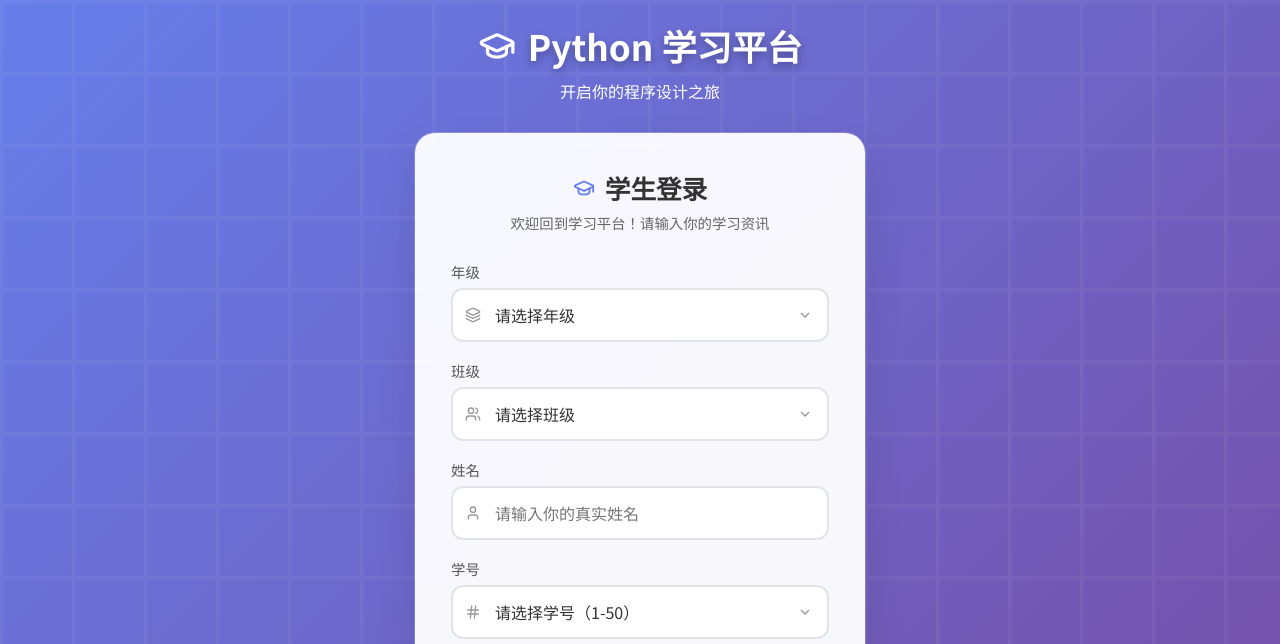
Test: Login.jsx › shows field error when student not found
The width and height of the screenshot is (1280, 644).
Step 1. Select "七年级" in the dropdown below "年级" → (640, 315), box 451,288 -> 829,342
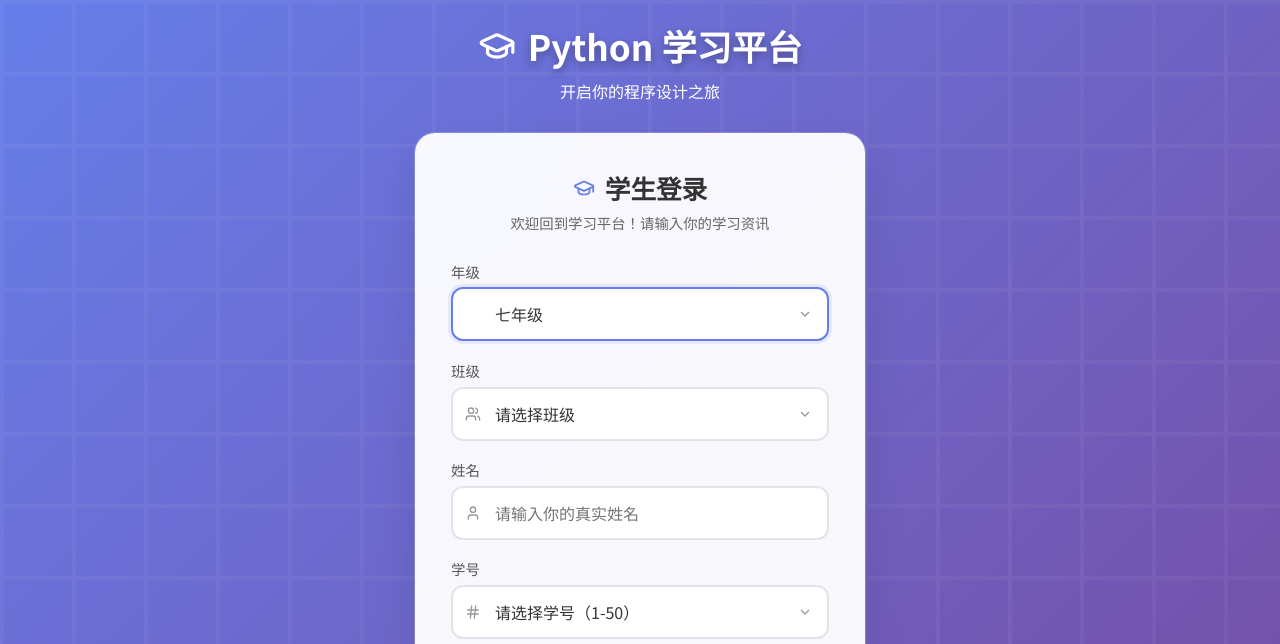
Step 2. Select "1班" in the dropdown below "班级" → (640, 414), box 451,387 -> 829,441
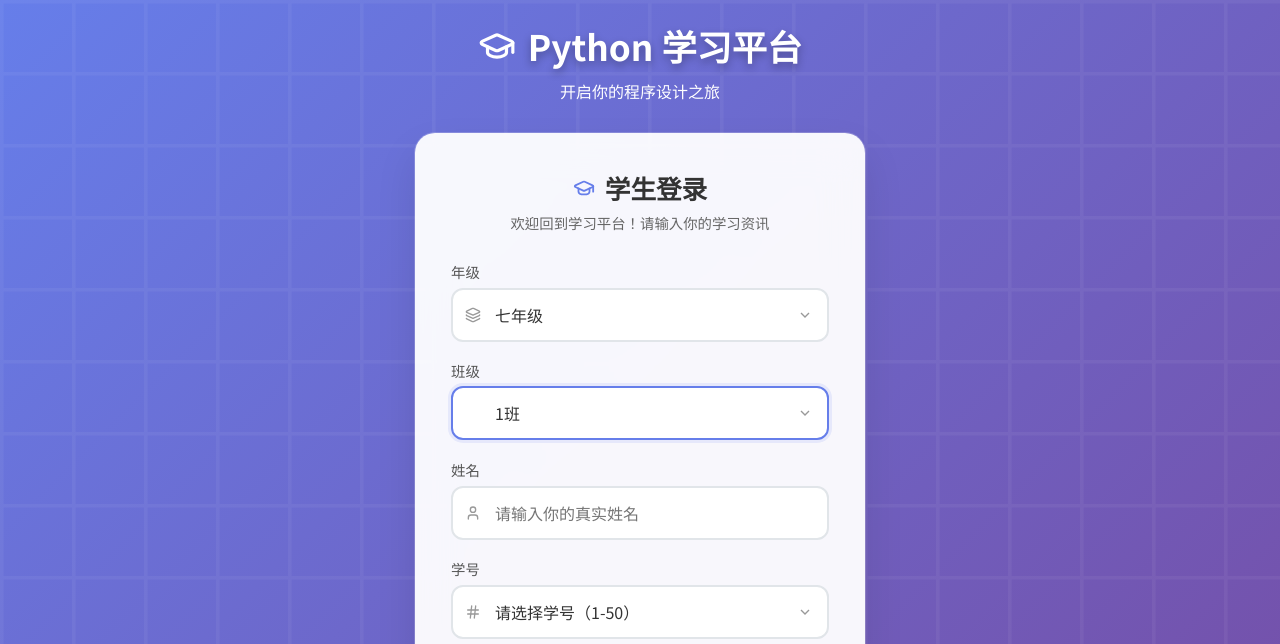
Step 3. Type "张三" into the field with placeholder "请输入你的真实姓名" → (640, 513), box 451,486 -> 829,540
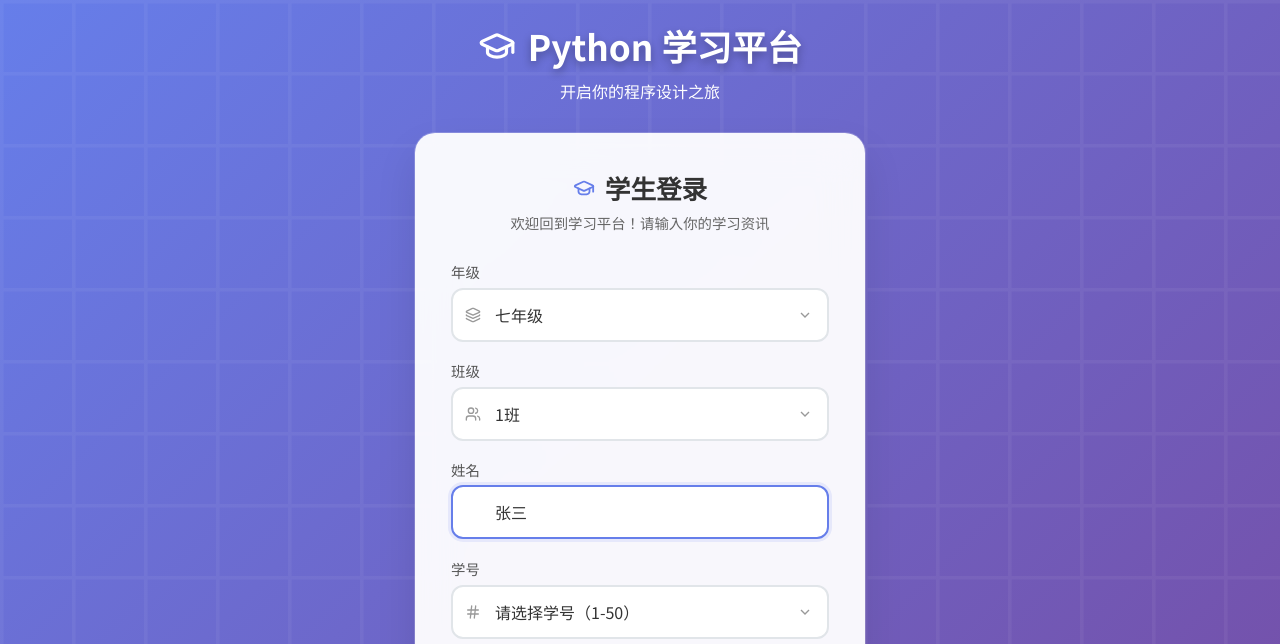
Step 4. Select "5" in the dropdown below "学号" → (640, 612), box 451,585 -> 829,639
(page scrolled)
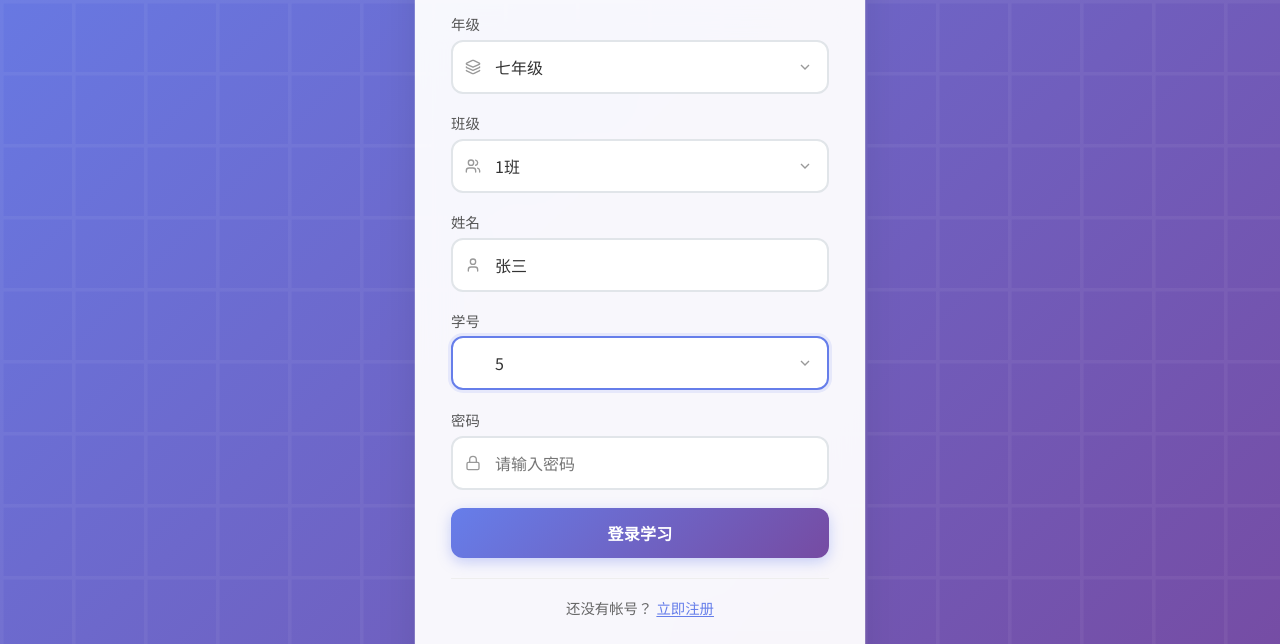
Step 5. Type "password123" into the password field with placeholder "请输入密码" → (640, 463), box 451,436 -> 829,490
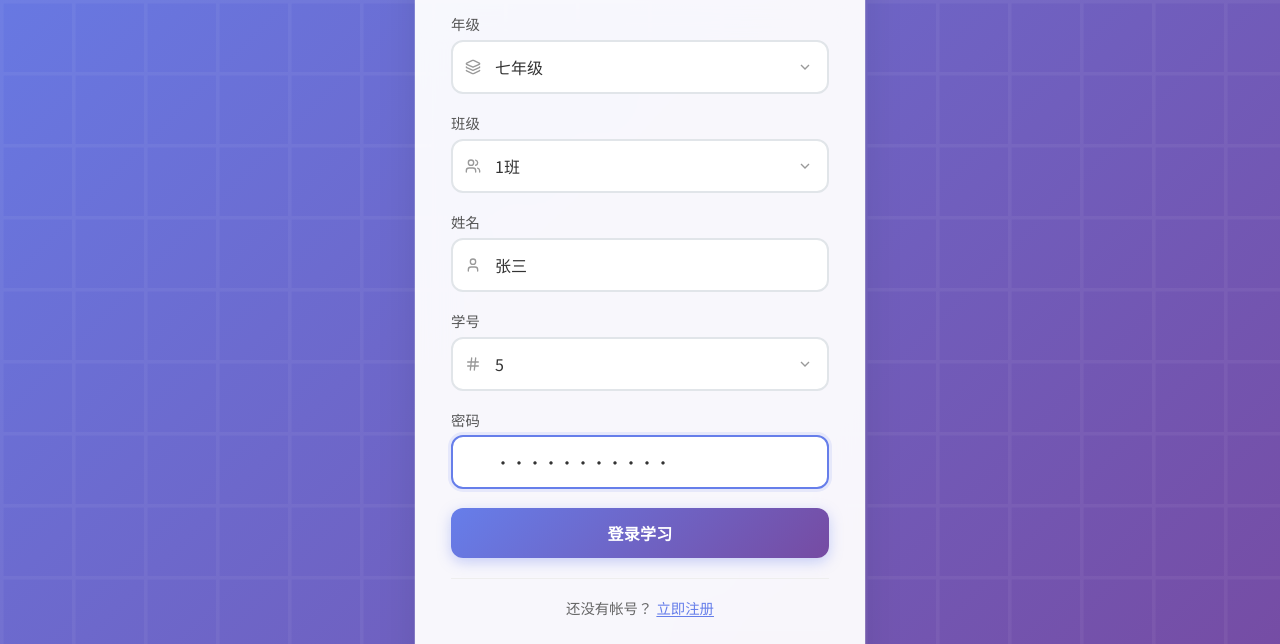
Step 6. Click the button "登录学习" → (640, 533), box 451,508 -> 829,558
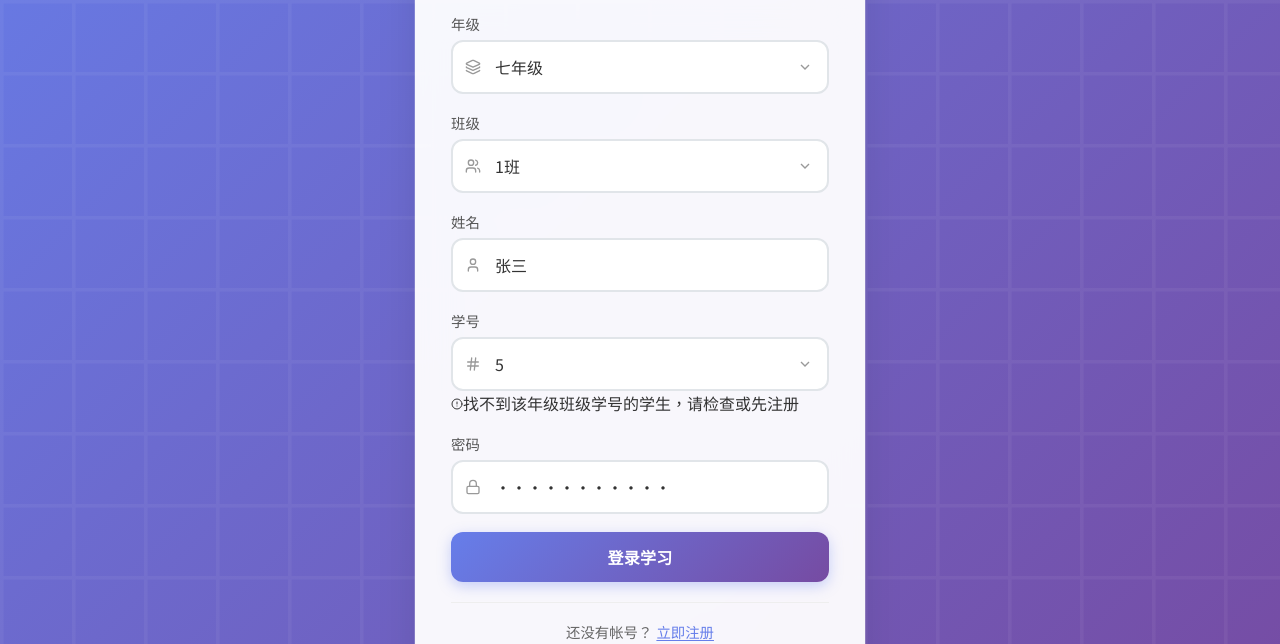
Now the text "找不到该年级班级学号的学生，请检查或先注册" is shown, box 451,391 -> 829,415
